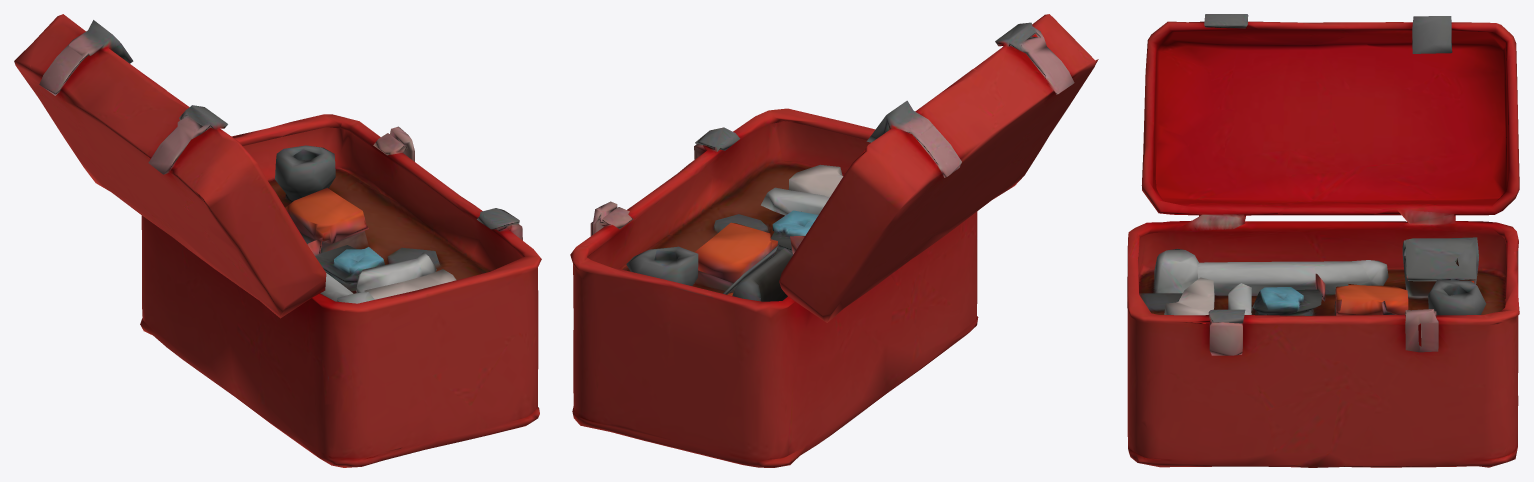
File: toolbox.glb
The picture shows the model from 3 angles, left to right: view 1: azimuth 30°, elevation 25°; view 2: azimuth 150°, elevation 25°; view 3: azimuth 270°, elevation 25°; orthographic projection. The views are drawn at different scales.
Parts seen in each view (by area): view 1: tripo_node_68d685e8-1c39-4cb3-9b47-7bc3632f808d; view 2: tripo_node_68d685e8-1c39-4cb3-9b47-7bc3632f808d; view 3: tripo_node_68d685e8-1c39-4cb3-9b47-7bc3632f808d.
Boxes of the visible parts, x1,y1,x2,y2 form: tripo_node_68d685e8-1c39-4cb3-9b47-7bc3632f808d: [14, 14, 541, 467]; tripo_node_68d685e8-1c39-4cb3-9b47-7bc3632f808d: [570, 14, 1098, 467]; tripo_node_68d685e8-1c39-4cb3-9b47-7bc3632f808d: [1127, 14, 1519, 467].
Size of the model in its own units: 0.9835 by 0.9072 by 1.
Materials: 1 (1 with a texture image).
